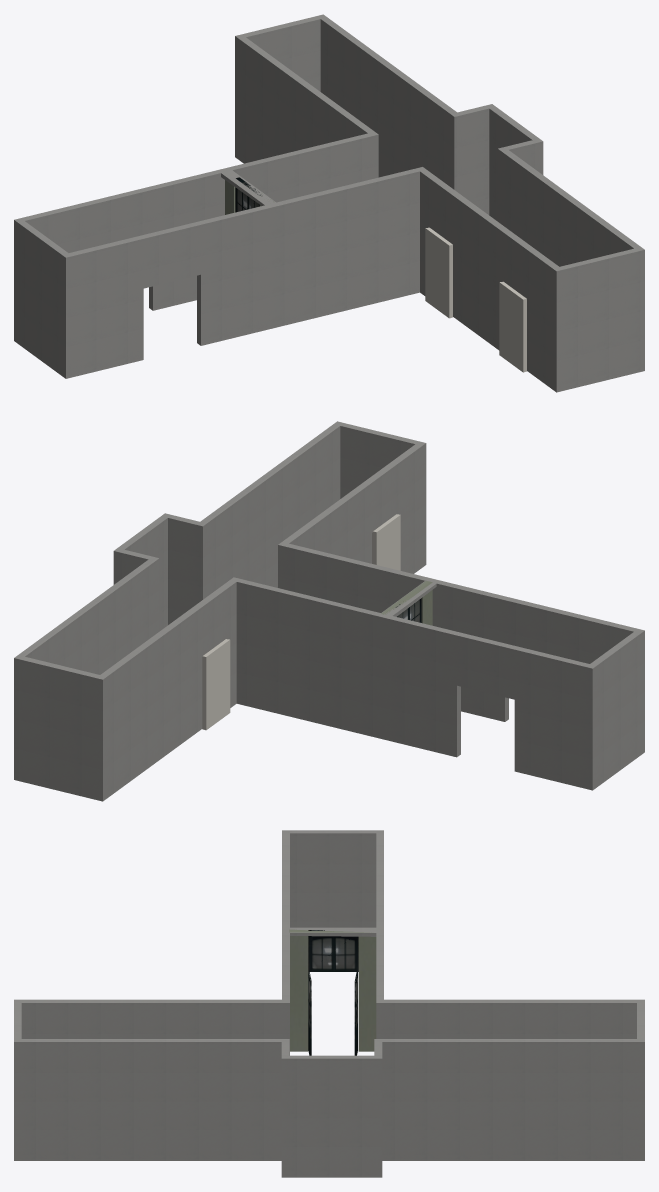
3 renders of one model, top to bottom at view 1: azimuth 30°, elevation 25°; view 2: azimuth 150°, elevation 25°; view 3: azimuth 270°, elevation 25°, orthographic. The views are drawn at different scales.
Parts seen in each view (by area): view 1: Line001, zz001, zz002, Box030; view 2: Line001, zz, zz002, Box030; view 3: Line001, Box030.
Boxes of the visible parts, left/top/right/bottom form: Line001: left=14, top=14, right=644, bottom=392; zz001: left=425, top=227, right=453, bottom=318; zz002: left=499, top=281, right=526, bottom=372; Box030: left=225, top=177, right=274, bottom=214; Line001: left=14, top=421, right=644, bottom=801; zz: left=202, top=639, right=230, bottom=730; zz002: left=372, top=514, right=400, bottom=570; Box030: left=381, top=580, right=432, bottom=625; Line001: left=14, top=830, right=644, bottom=1177; Box030: left=289, top=929, right=376, bottom=1055.
Bounding box in the file's own units: 14.01 × 3.42 × 16.35.
4 materials, 3 textured.
